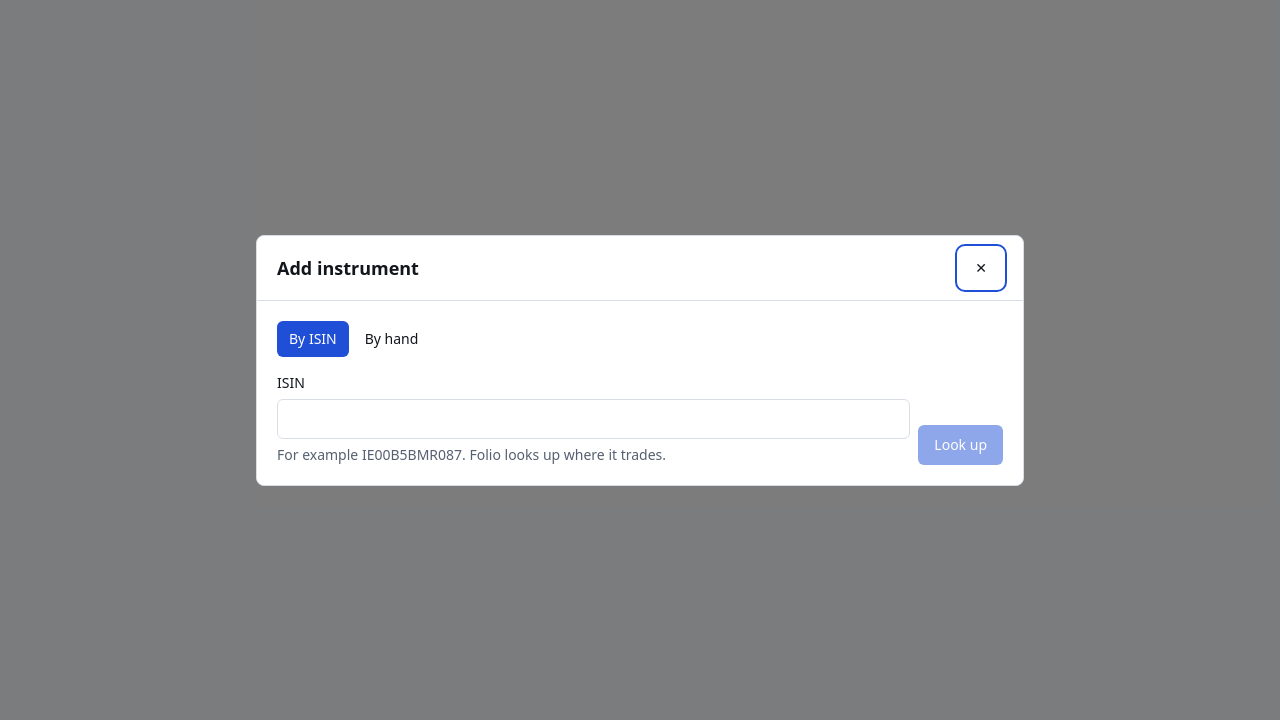
adding an instrument by ISIN › explains an invalid ISIN in plain language
This screenshot has width=1280, height=720.
Type "IE00B5BMR088" into the field labelled "ISIN" at point(594, 418), box 277,398 -> 910,438
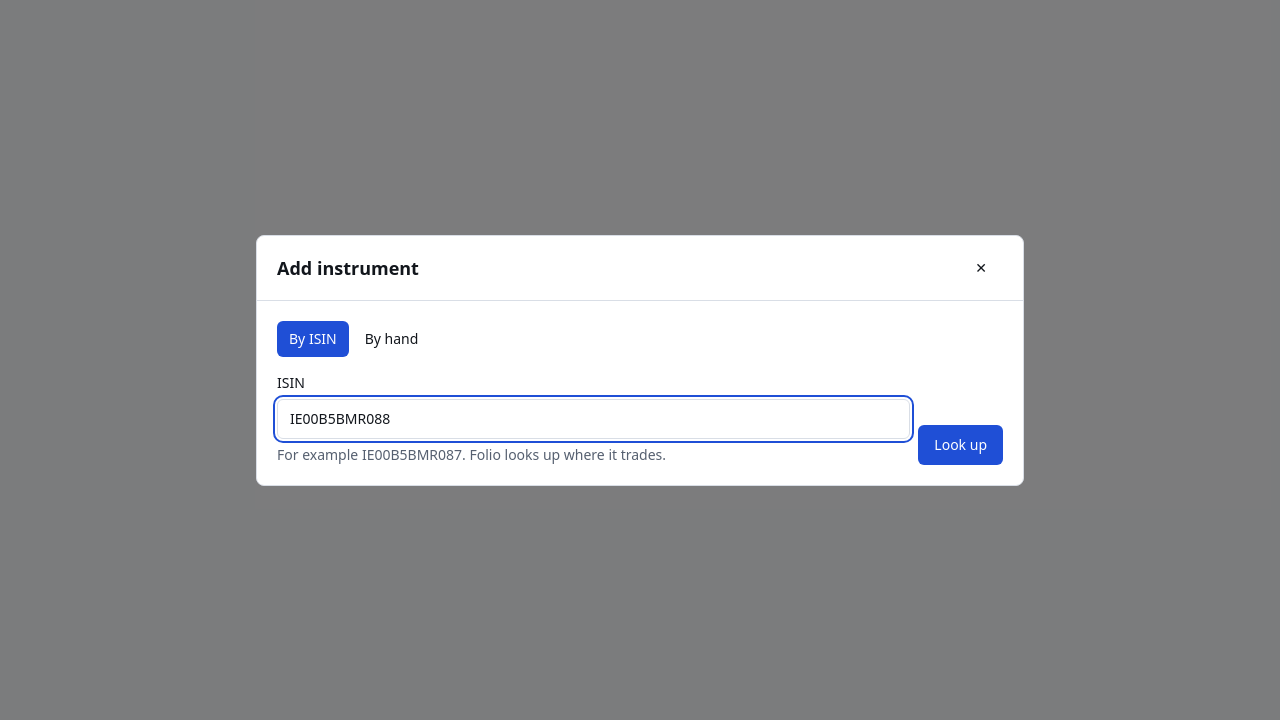
Click the button "Look up" at point(961, 444), box 918,424 -> 1003,464
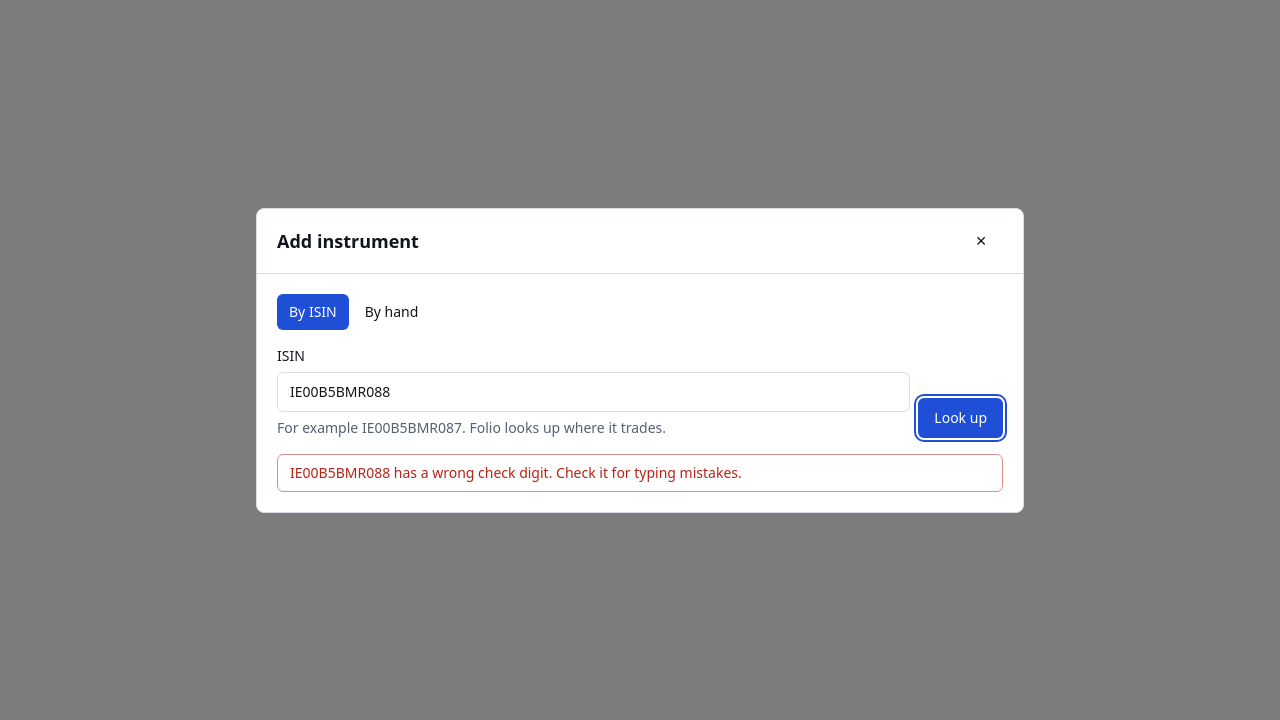
Expected: the message shows "wrong check digit", 290,462 -> 742,482
